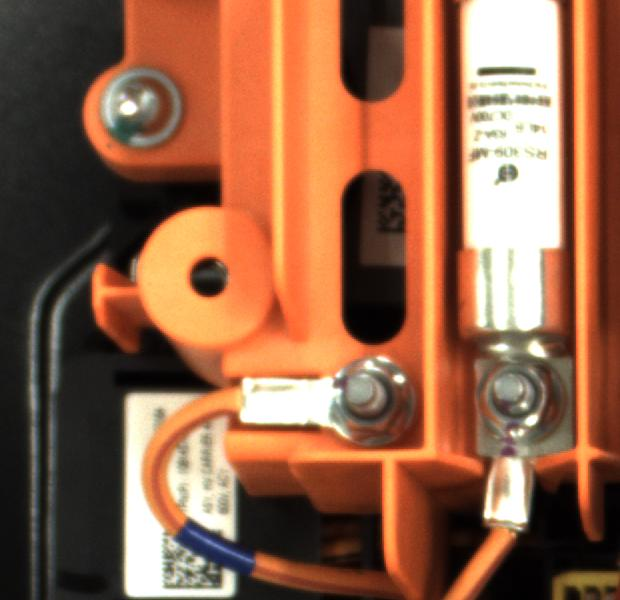screw_m: (85, 58, 207, 158)
screw_s: (465, 353, 581, 453), (317, 360, 432, 451)
